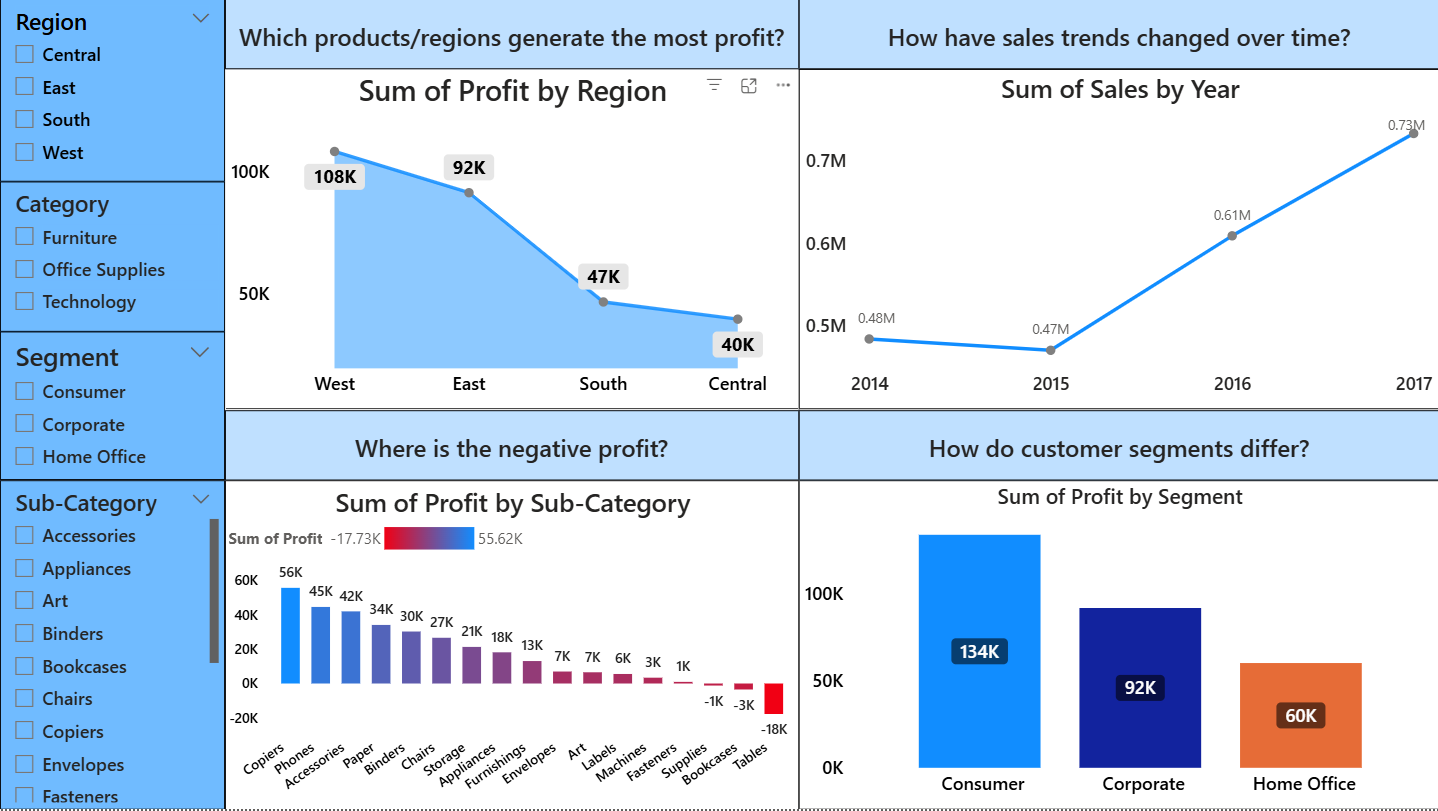

Layout of this report page (visuals, bound fields, positions):
{"tool":"powerbi","page":{"name":"Dashboard","canvas":[1280,720],"ordinal":0},"visuals":[{"type":"areaChart","fields":{"Y":["Sum(out.Profit)"],"Category":["out.Region"]},"box":[200,62.5,510,302.5],"z":0},{"type":"textbox","box":[200,0,510,62.5],"z":1000},{"type":"textbox","box":[710,0,570,62.5],"z":2000},{"type":"textbox","box":[200,365,510,62.5],"z":3000},{"type":"columnChart","title":"Sum of Profit by Segment","fields":{"Category":["out.Segment"],"Series":["out.Segment"],"Y":["Sum(out.Profit)"]},"box":[710,427.5,570,293],"z":4000},{"type":"lineChart","fields":{"Category":["out.Year"],"Y":["Sum(out.Sales)"]},"box":[710,62.5,570,302.5],"z":5000},{"type":"textbox","box":[710,365,570,62.5],"z":6000},{"type":"columnChart","fields":{"Y":["Sum(out.Profit)"],"Category":["out.Sub-Category"]},"box":[200,427.5,510,293.8],"z":7000},{"type":"slicer","fields":{"Values":["out.Region"]},"box":[0,0,200,162.5],"z":8000},{"type":"slicer","fields":{"Values":["out.Sub-Category"]},"box":[0,427.5,200,292.5],"z":9000},{"type":"slicer","fields":{"Values":["out.Category"]},"box":[0,162.5,200,133.8],"z":10000},{"type":"slicer","fields":{"Values":["out.Segment"]},"box":[0,295.6,200,132.2],"z":11000}]}

Visuals, with their boxes in screenshot pixels (x1, y1, x2, y2):
areaChart - Sum(out.Profit) x out.Region: [229,73,794,408]
textbox: [229,4,794,73]
textbox: [794,4,1426,73]
textbox: [229,408,794,477]
"Sum of Profit by Segment" columnChart: [794,477,1426,802]
lineChart - out.Year x Sum(out.Sales): [794,73,1426,408]
textbox: [794,408,1426,477]
columnChart - Sum(out.Profit) x out.Sub-Category: [229,477,794,803]
slicer - out.Region: [7,4,229,184]
slicer - out.Sub-Category: [7,477,229,801]
slicer - out.Category: [7,184,229,332]
slicer - out.Segment: [7,331,229,478]
